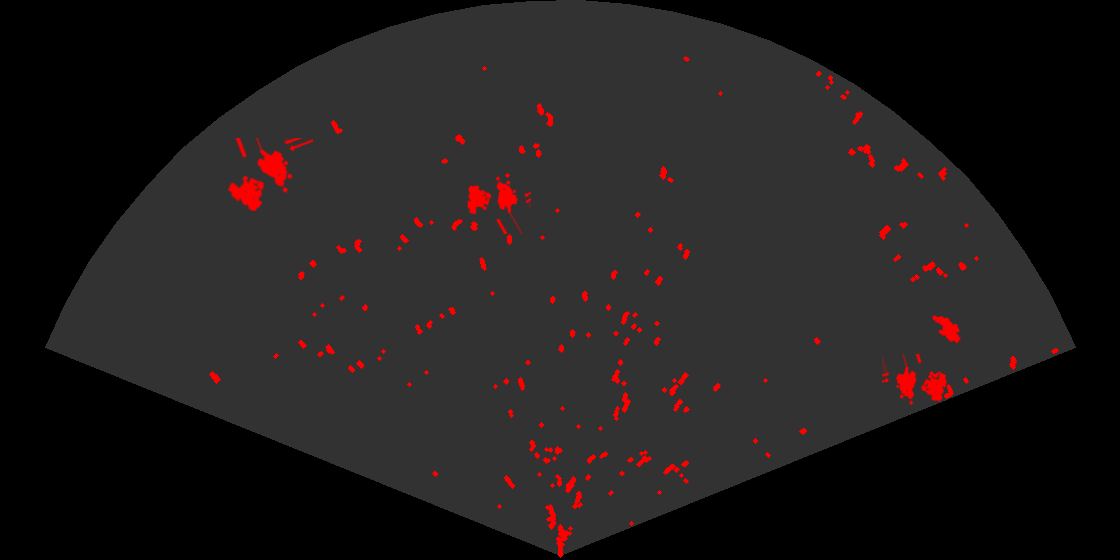AUV: (930, 314, 962, 345)
cage: (226, 138, 313, 213), (465, 175, 531, 234), (882, 354, 948, 407)
